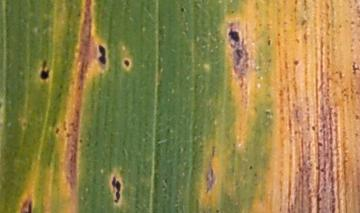tarspot: (110, 175, 121, 203), (39, 60, 50, 80), (228, 27, 241, 43), (98, 44, 107, 65), (235, 46, 244, 63), (122, 56, 131, 68), (27, 201, 33, 213), (178, 5, 186, 14), (292, 58, 300, 66), (54, 125, 60, 135), (266, 38, 272, 46), (78, 136, 84, 144), (213, 208, 222, 213), (248, 164, 253, 171)
